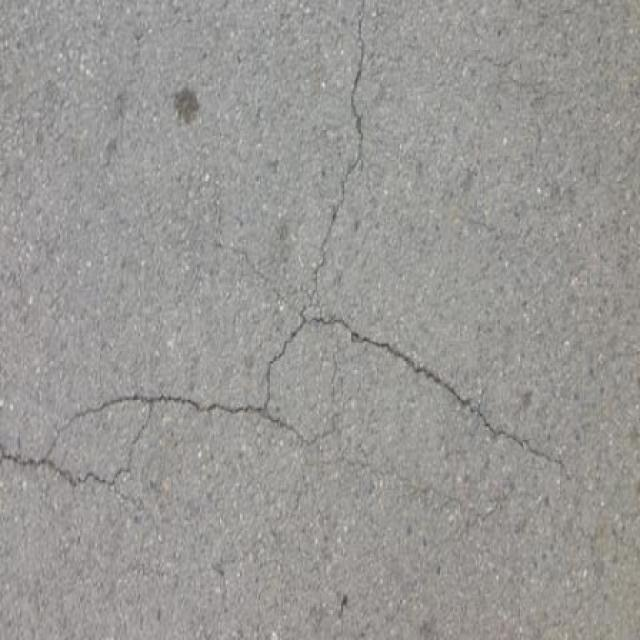Diagonal Crack: (0, 0, 584, 544), (278, 330, 343, 419), (66, 411, 135, 468)
